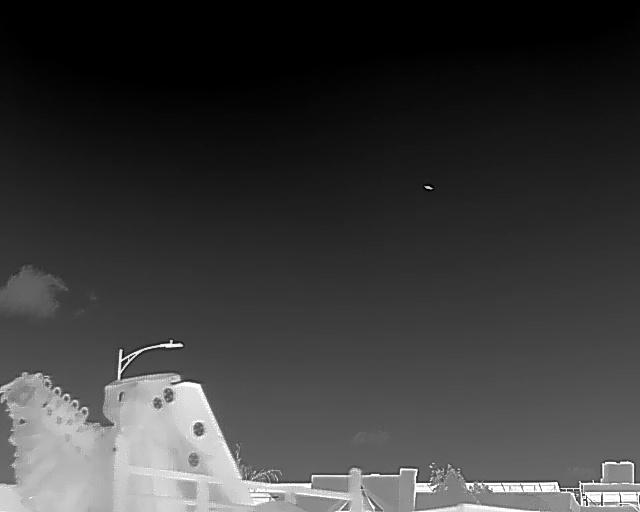fpv-drone: (423, 184, 434, 190)
